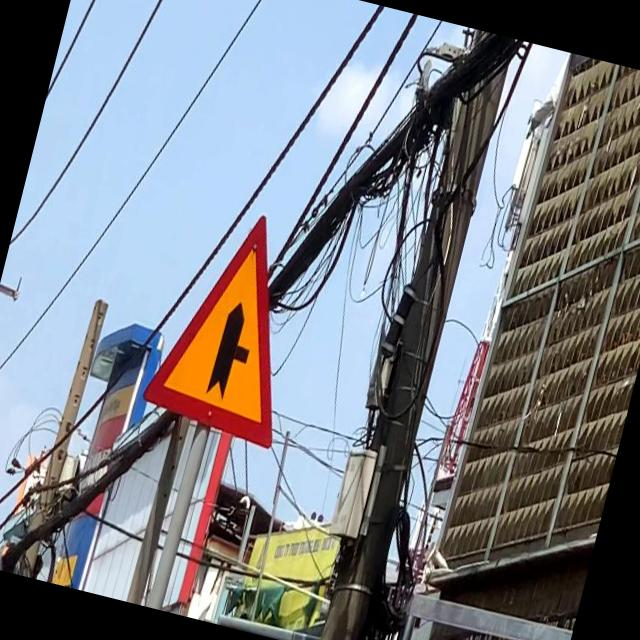W-207b: (140, 196, 328, 448)
